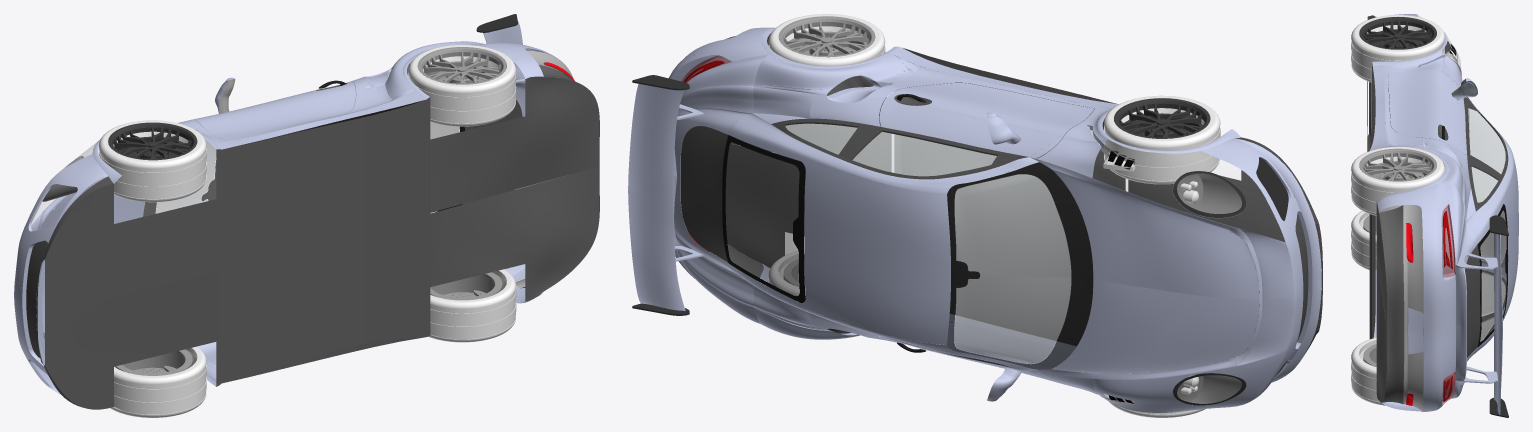
The picture shows the model from 3 angles, left to right: view 1: azimuth 30°, elevation 25°; view 2: azimuth 150°, elevation 25°; view 3: azimuth 270°, elevation 25°; orthographic projection. The views are drawn at different scales.
Parts seen in each view (by area): view 1: Surface_Loft108, Mirror4, Surface_Fill13, Mirror3, Surface_Fill14, Revolve1_2_, LPattern1_1_, Surface_Trim21_1_, Mirror1_1_, Mirror1_104_, LPattern1_2_, Fillet3 (+14 smaller); view 2: Surface_Loft108, Surface_Loft42, Mirror1_14_, Surface_Trim9_1_, Mirror1_81_, Surface_Trim13_1_, Mirror1_82_, Mirror4, Surface_Trim11_1_, Mirror1_97_, Surface_Trim21_1_, Revolve1_2_ (+58 smaller); view 3: Surface_Trim21_1_, Surface_Trim2, Surface_Loft34, LPattern1_1_, Revolve1_2_, Surface_Trim24, LPattern1_2_, Fillet3, Mirror1_106_, Surface_Fill3, Surface_Trim13_1_, Surface_Trim4 (+55 smaller).
Part boxes in pixels (box(x1,y1,x2,y2)): Surface_Loft108: box(216, 97, 430, 386); Mirror4: box(430, 166, 599, 301); Surface_Fill13: box(45, 184, 218, 312); Mirror3: box(45, 270, 218, 409); Surface_Fill14: box(430, 76, 599, 212); Revolve1_2_: box(99, 120, 206, 202); LPattern1_1_: box(408, 44, 516, 126); Surface_Trim21_1_: box(193, 81, 355, 140); Mirror1_1_: box(110, 346, 206, 417); Mirror1_104_: box(428, 269, 516, 342); LPattern1_2_: box(417, 47, 506, 84); Fillet3: box(108, 122, 197, 160); Surface_Loft108: box(894, 55, 1125, 345); Surface_Loft42: box(1051, 169, 1259, 298); Mirror1_14_: box(1051, 279, 1259, 373); Surface_Trim9_1_: box(730, 135, 950, 273); Mirror1_81_: box(729, 236, 950, 344); Surface_Trim13_1_: box(954, 174, 1071, 277); Mirror1_82_: box(954, 275, 1071, 363); Mirror4: box(725, 143, 805, 267); Surface_Trim11_1_: box(1093, 139, 1284, 241); Mirror1_97_: box(628, 190, 703, 310); Surface_Trim21_1_: box(884, 83, 1094, 136); Revolve1_2_: box(1104, 95, 1220, 184); Surface_Trim21_1_: box(1388, 69, 1449, 144); Surface_Trim2: box(1377, 184, 1440, 332); Surface_Loft34: box(1379, 205, 1404, 332); LPattern1_1_: box(1351, 146, 1444, 215); Revolve1_2_: box(1351, 15, 1444, 85); Surface_Trim24: box(1403, 205, 1423, 331); LPattern1_2_: box(1359, 148, 1436, 181); Fillet3: box(1359, 17, 1436, 49); Mirror1_106_: box(1378, 332, 1440, 412); Surface_Fill3: box(1468, 108, 1505, 174); Surface_Trim13_1_: box(1470, 105, 1508, 184); Surface_Trim4: box(1435, 181, 1455, 331).
Bounding box in the file's own units: 176 × 77.76 × 51.01.
